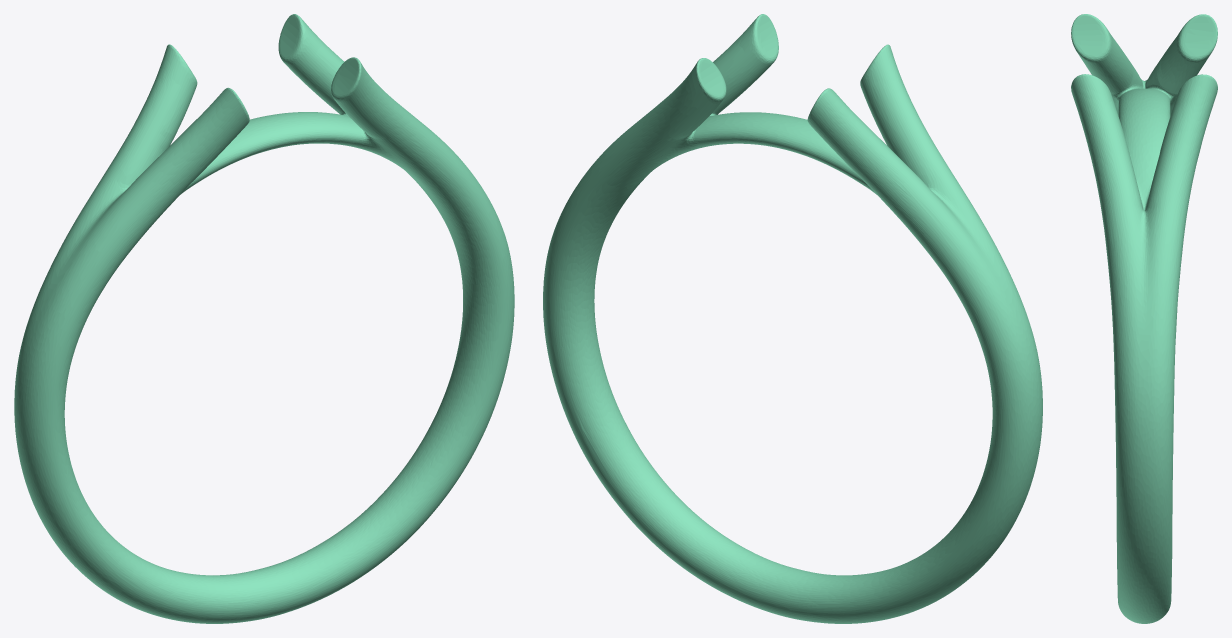
3 renders of one model, left to right at view 1: azimuth 30°, elevation 25°; view 2: azimuth 150°, elevation 25°; view 3: azimuth 270°, elevation 25°, orthographic.
Parts seen in each view (by area): view 1: Metal02; view 2: Metal02; view 3: Metal02.
Boxes of the visible parts, box(x1,y1,x2,y2) form: Metal02: box(14, 14, 514, 623); Metal02: box(543, 14, 1042, 623); Metal02: box(1071, 14, 1217, 623).
Bounding box in the file's own units: 20.9 × 22.91 × 5.51.
